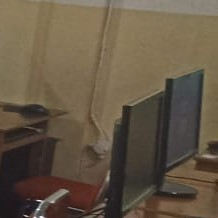monitor: (115, 85, 175, 215), (160, 65, 205, 180)
